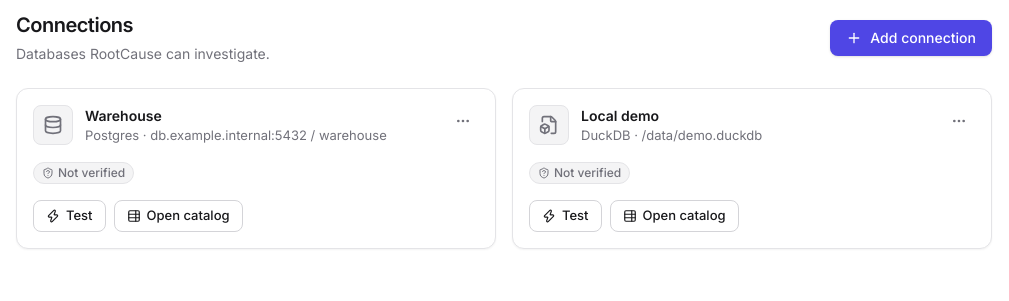
Test: ConnectionsPage cards › shows why a test failed and warns about writable accounts
Expected: the heading "Warehouse" is shown, [85, 107, 162, 124]
Click the button with aria-label "Test Warehouse".
click(69, 216)  # box [33, 200, 106, 232]
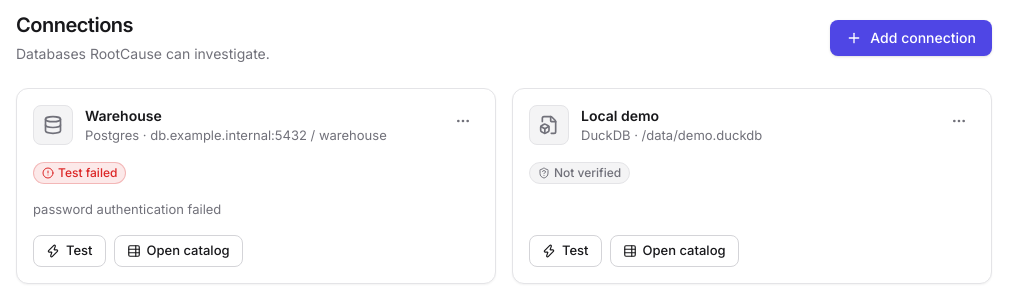
Result: the text "Test failed" is shown at [33, 162, 126, 184]
Result: the text "password authentication failed" is shown at [33, 200, 221, 216]
Click the button with aria-label "Test Local demo".
click(565, 251)  # box [529, 235, 602, 267]
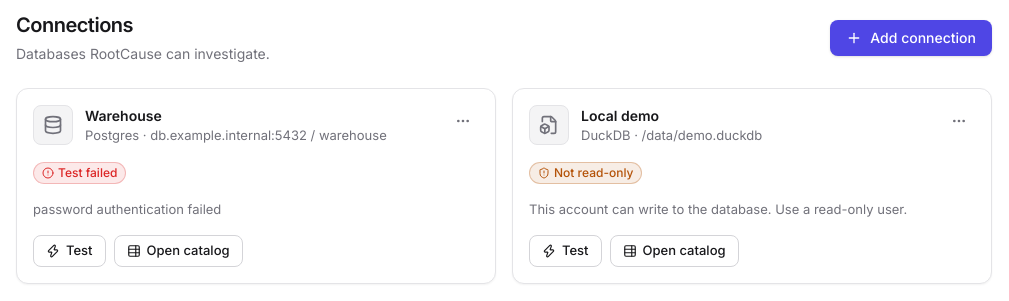
Result: the text "Not read-only" is shown at [529, 162, 642, 184]
